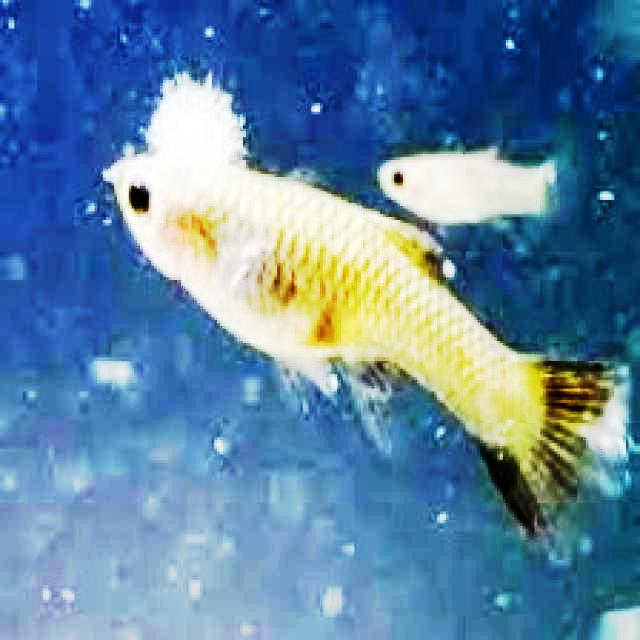Fungal Disease -Saprolegniasis-: (114, 78, 626, 538), (114, 78, 626, 537)
